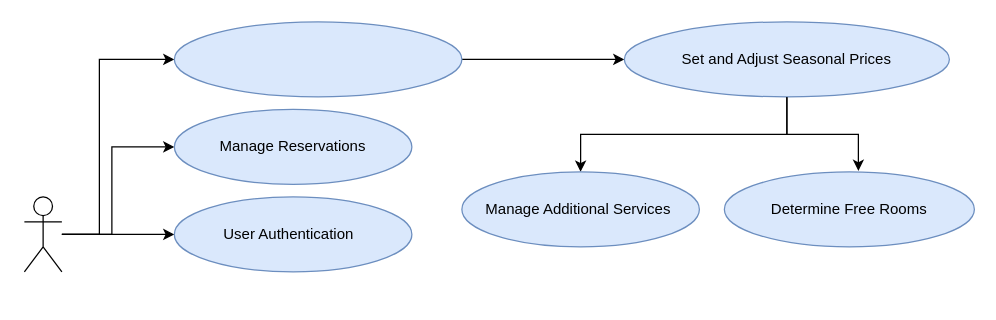
Image size: 996x320. Some labels were removed from this diagram. Each missing label, with the centre of its shape:
"Admin" goes at point (42, 234).
"Explore and Manage Room Categories" goes at point (317, 59).
